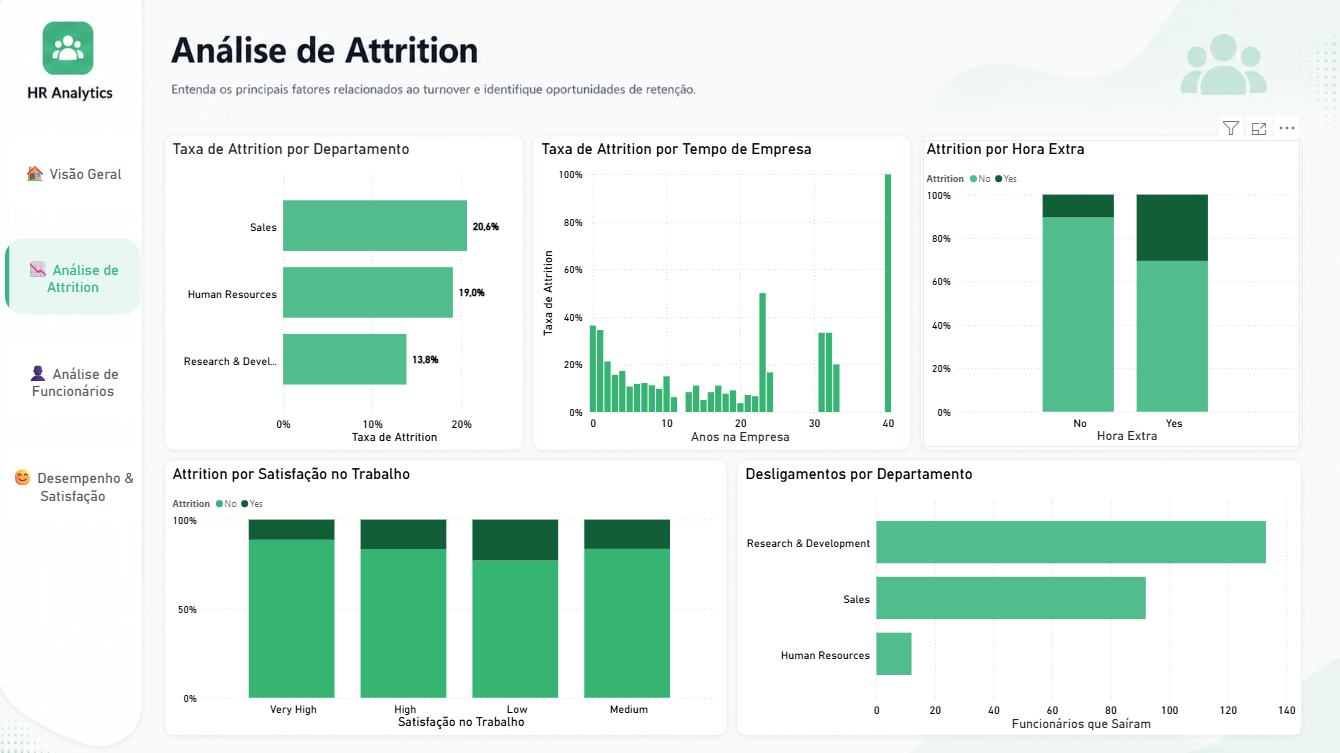

What the dashboard file says about the page in this screenshot:
{"tool":"powerbi","page":{"name":"📉 Análise de Attrition","canvas":[1920,1080],"ordinal":1},"visuals":[{"type":"barChart","title":"Taxa de Attrition por Departamento","fields":{"Y":["Medidas.Taxa de Attrition"],"Category":["Human_Resources.Department"]},"box":[245.7,204.3,501.4,438.6],"z":0},{"type":"columnChart","title":"Taxa de Attrition por Tempo de Empresa","fields":{"Category":["Human_Resources.YearsAtCompany"],"Y":["Medidas.Taxa de Attrition"]},"box":[772.9,204.3,514.3,438.6],"z":1000},{"type":"hundredPercentStackedColumnChart","title":"Attrition por Satisfação no Trabalho","fields":{"Series":["Human_Resources.Attrition"],"Y":["Medidas.Total Funcionários"],"Category":["Human_Resources.JobSatisfaction"]},"box":[245.7,668.6,790,382.9],"z":2000},{"type":"hundredPercentStackedColumnChart","title":"Attrition por Hora Extra","fields":{"Series":["Human_Resources.Attrition"],"Y":["Medidas.Total Funcionários"],"Category":["Human_Resources.OverTime"]},"box":[1322.9,204.3,538.6,438.6],"z":3000},{"type":"barChart","title":"Desligamentos por Departamento","fields":{"Y":["Medidas.Funcionários que Saíram"],"Category":["Human_Resources.Department"]},"box":[1064.3,668.6,795.7,384.3],"z":4000},{"type":"pageNavigator","box":[11.4,195.7,194.3,558.6],"z":5000}]}

Visuals, with their boxes on the page's 1920x1080 design canvas (x1, y1, x2, y2). These are canvas units, not pixel positions in the 1340x753 screenshot, which may show the page scaled, cropped or inside an application window:
"Taxa de Attrition por Departamento" barChart: 246, 204, 747, 643
"Taxa de Attrition por Tempo de Empresa" columnChart: 773, 204, 1287, 643
"Attrition por Satisfação no Trabalho" hundredPercentStackedColumnChart: 246, 669, 1036, 1052
"Attrition por Hora Extra" hundredPercentStackedColumnChart: 1323, 204, 1862, 643
"Desligamentos por Departamento" barChart: 1064, 669, 1860, 1053
pageNavigator: 11, 196, 206, 754
